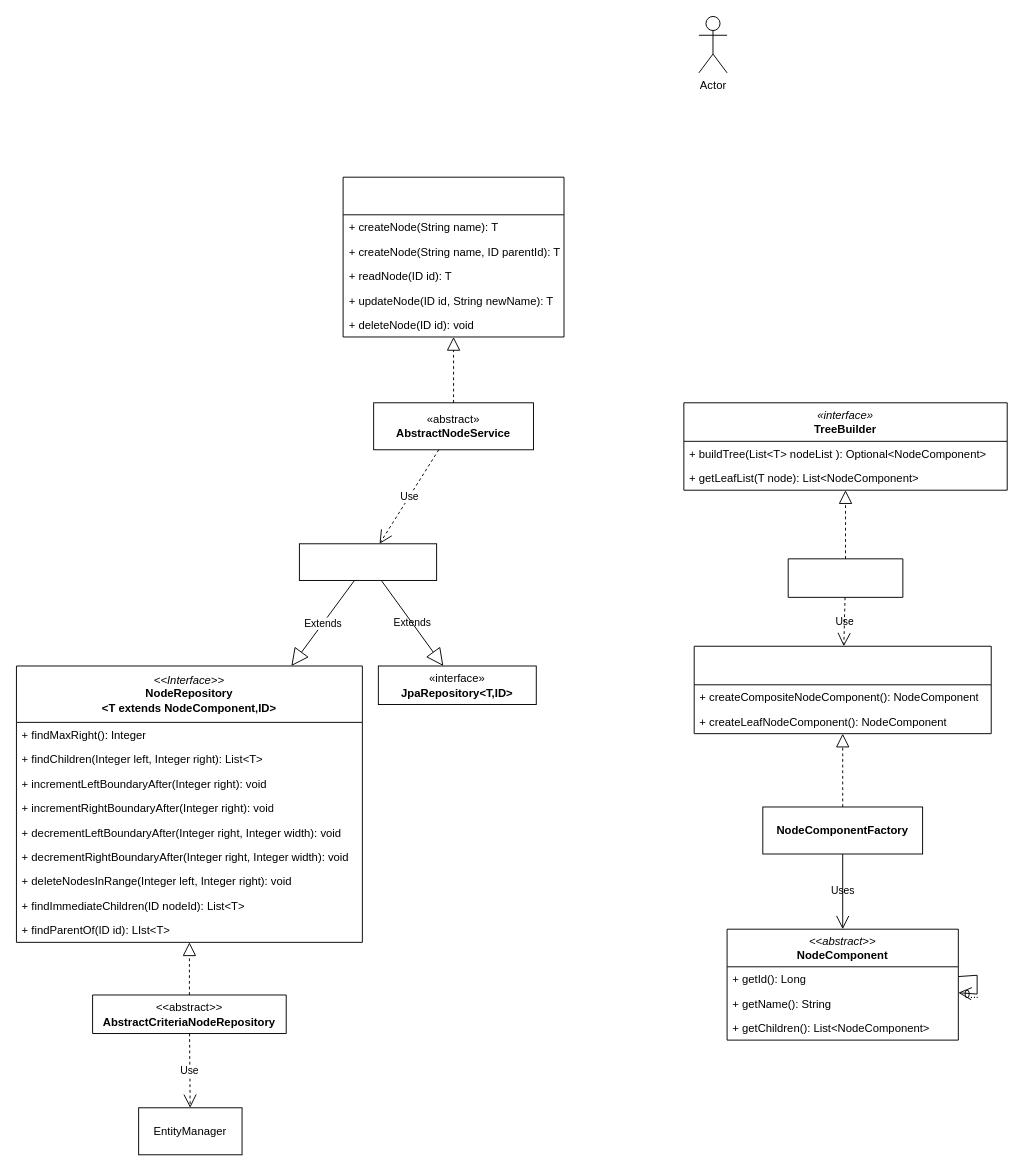
The diagram is 1024 pixels wide and 1171 high, and some of its shapes have lost their labels. The box of each missing label's shape, as (x1, y1, x2, y2) in pixels:
<<Interface>> JpaNodeRepository: (298, 543, 437, 580)
<<interface>> NodeComponentFactory: (693, 645, 991, 734)
<<interface>> NodeService: (342, 176, 564, 337)
TreeBuilderImpl: (787, 558, 903, 597)
